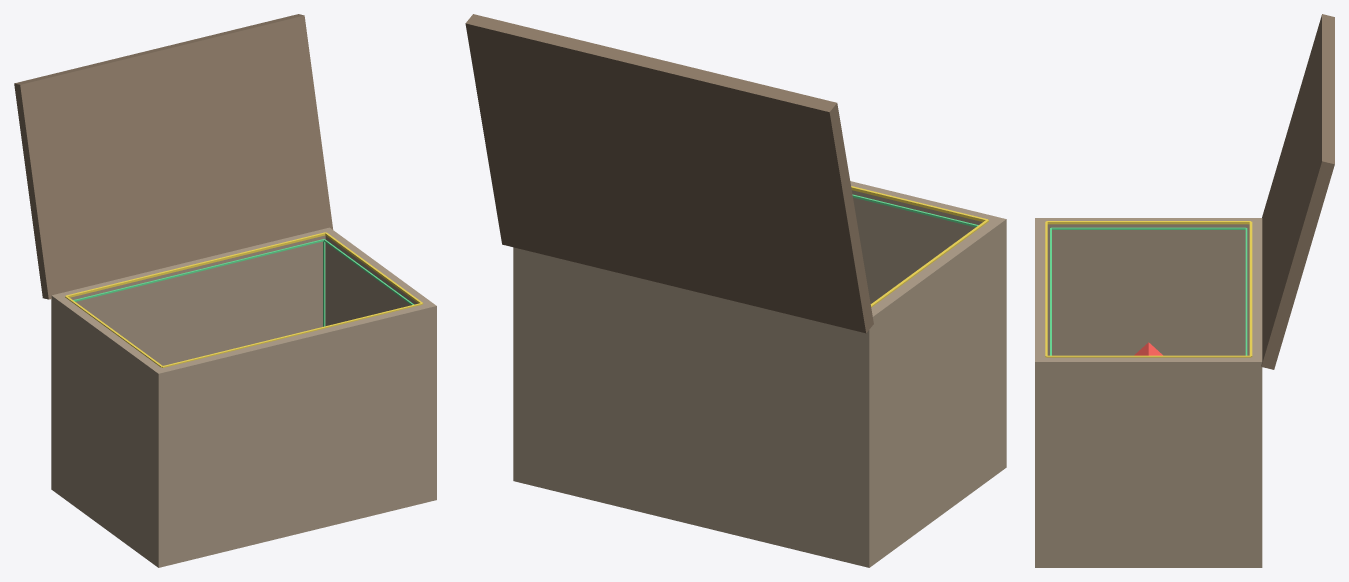
File: HakoOnna_Pose_Tsuzura.glb
3 views of the same model, side by side, from view 1: azimuth 30°, elevation 25°; view 2: azimuth 150°, elevation 25°; view 3: azimuth 270°, elevation 25° (orthographic). The views are drawn at different scales.
Parts seen in each view (by area): view 1: Shell, Open_Lid, Opening, SafeZone_1.5cm; view 2: Shell, Open_Lid, Opening; view 3: Shell, Open_Lid, Opening, SafeZone_1.5cm.
Part boxes in pixels (x1,y1,x2,y2): Shell: (51,227,436,567); Open_Lid: (14,14,333,299); Opening: (65,232,423,367); SafeZone_1.5cm: (73,239,413,326); Shell: (513,181,1006,567); Open_Lid: (465,14,873,333); Opening: (851,186,988,307); Shell: (1035,218,1262,567); Open_Lid: (1261,14,1334,369); Opening: (1045,221,1252,357); SafeZone_1.5cm: (1050,227,1247,355).
Size of what is drawn, in the model's own units: 1.15 by 1.49 by 0.9896.
